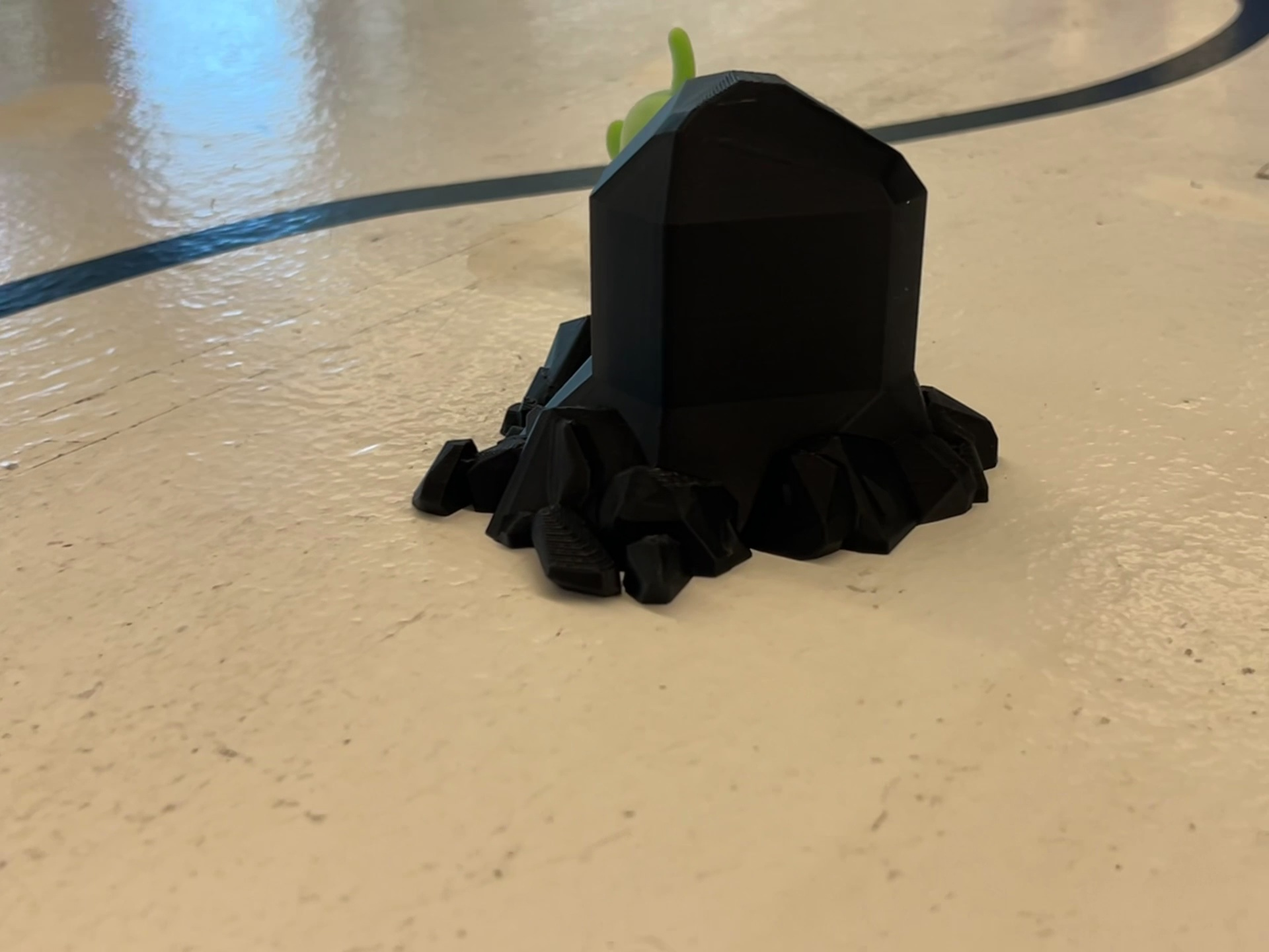teletubby: (605, 28, 694, 159)
